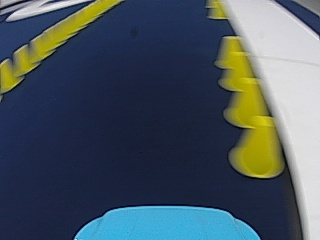cone: (230, 119, 285, 178), (225, 76, 270, 125), (217, 43, 255, 90), (215, 35, 246, 70), (11, 44, 33, 76), (0, 57, 20, 91), (208, 4, 225, 19)
